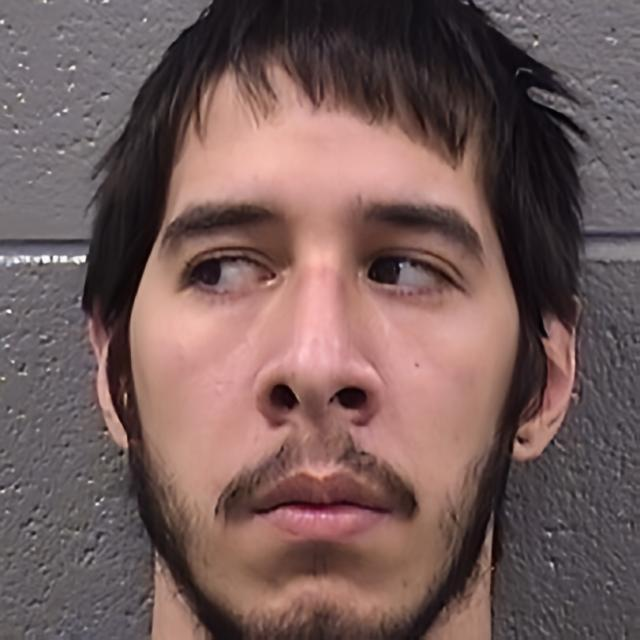sad: (126, 65, 525, 640)
